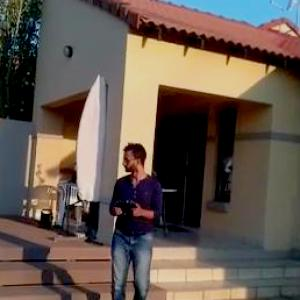follow: (102, 137, 169, 299)
